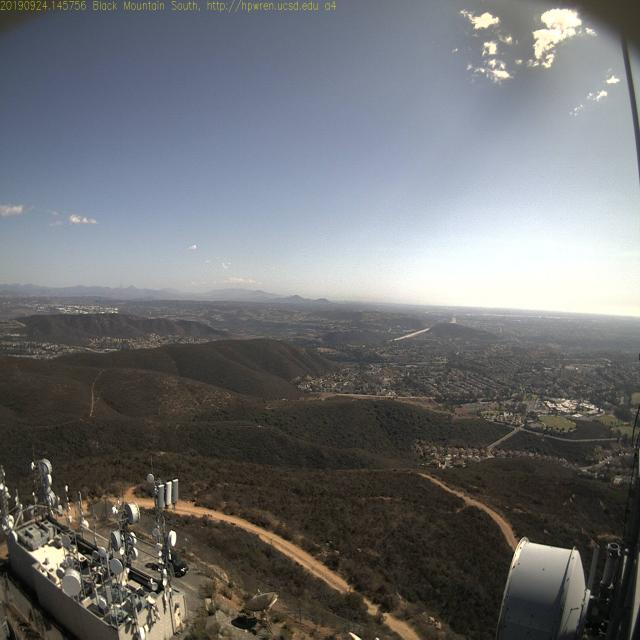smoke: (114, 278, 127, 298)
